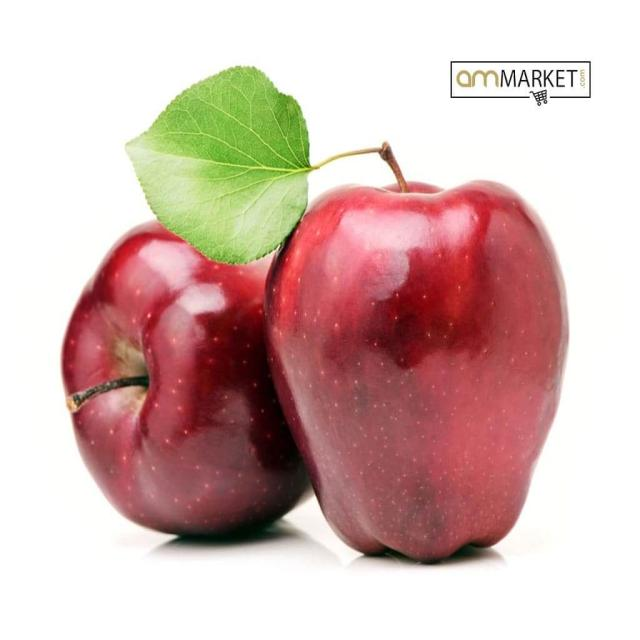manzana: (119, 59, 566, 597), (44, 201, 331, 561)
